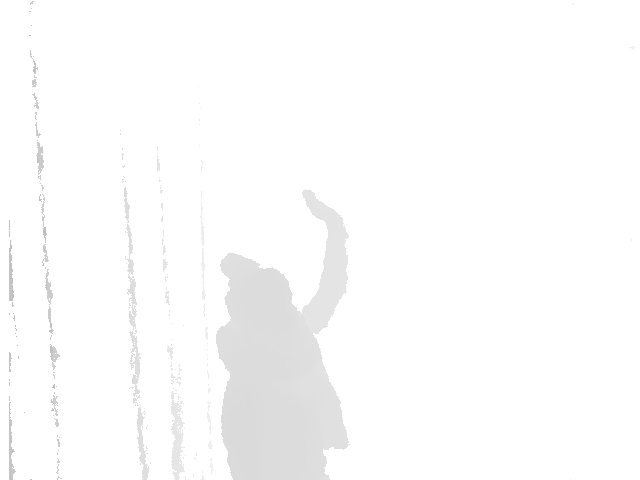hand: (302, 187, 345, 228)
head: (218, 250, 300, 325)
person: (214, 189, 353, 480)
